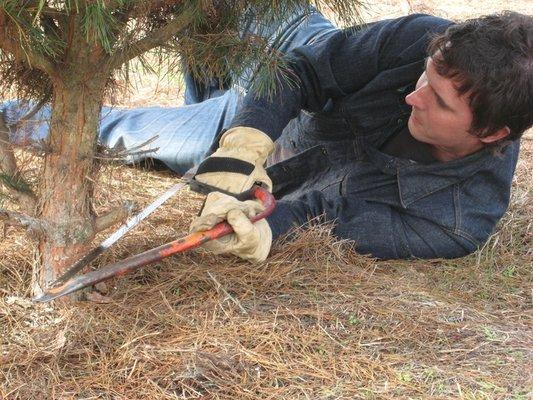person: (1, 1, 533, 267)
